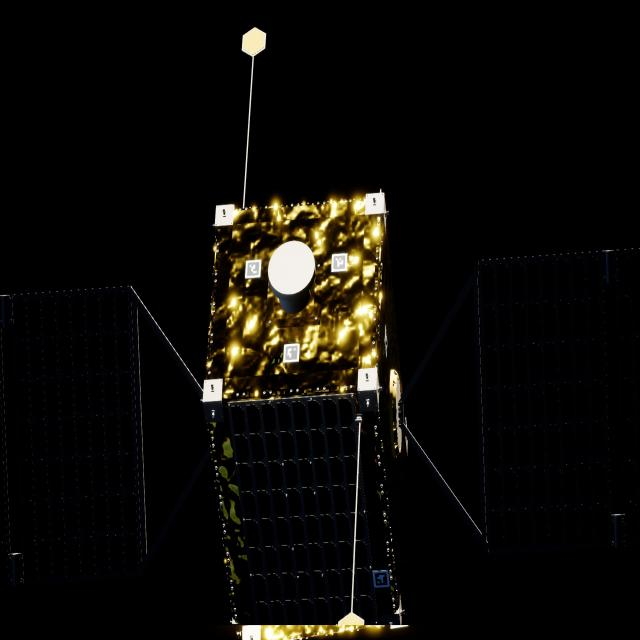medium_debris: (0, 199, 640, 628)
